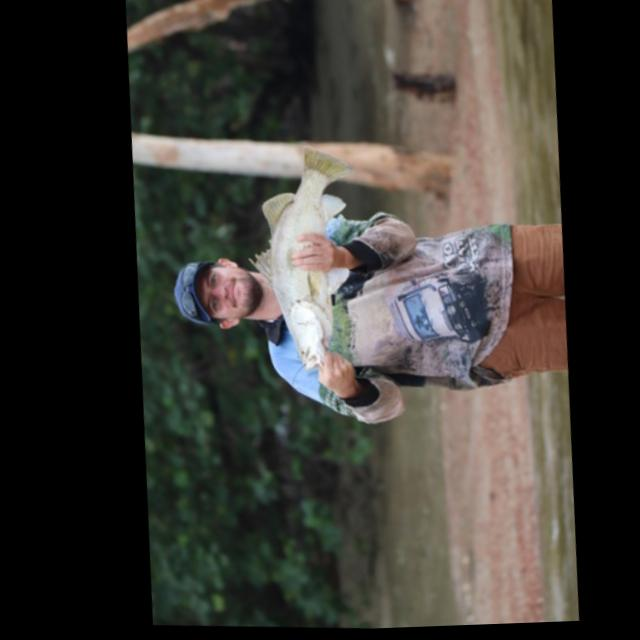Seabass: (226, 145, 367, 376)
